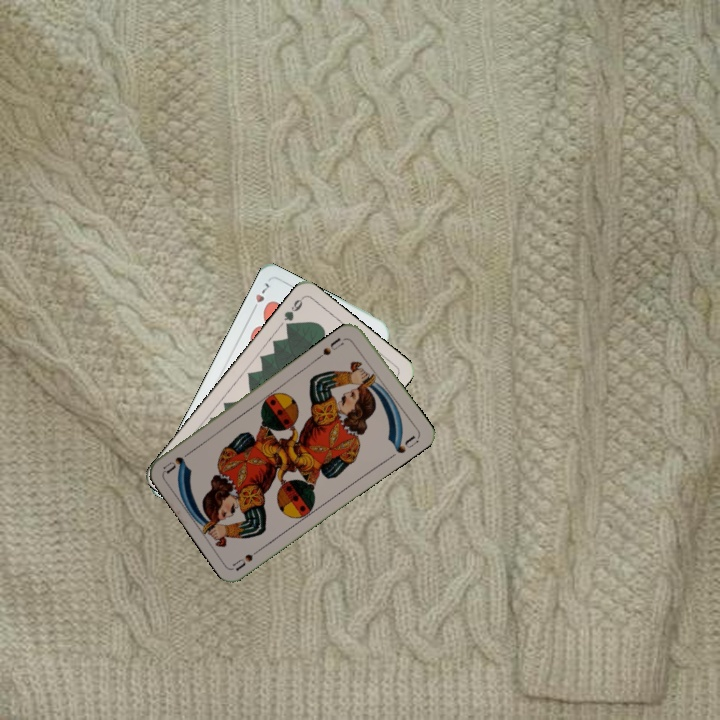G9: (280, 293, 306, 332)
H7: (247, 278, 272, 315)
SU: (229, 542, 267, 573), (319, 333, 346, 358)
